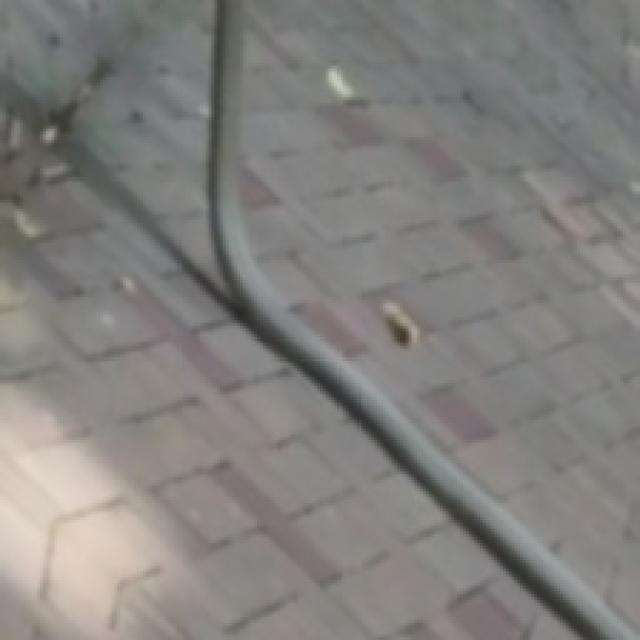king cobra: (0, 0, 580, 637), (237, 0, 637, 634)
